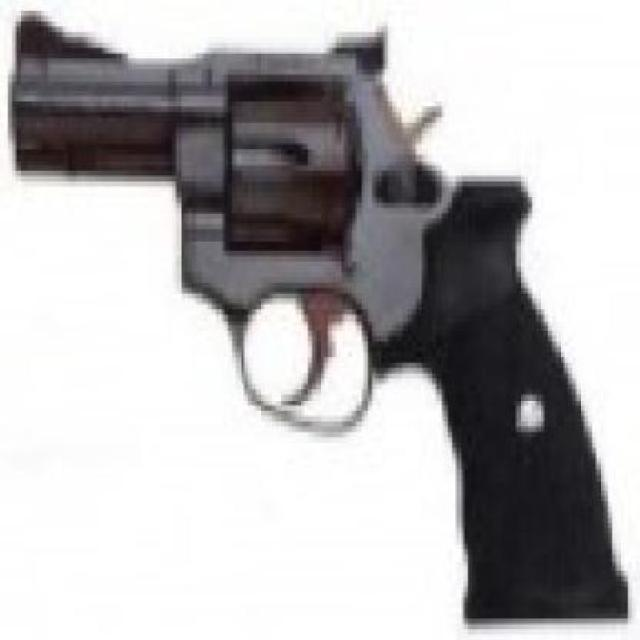gun: (8, 5, 628, 624)
